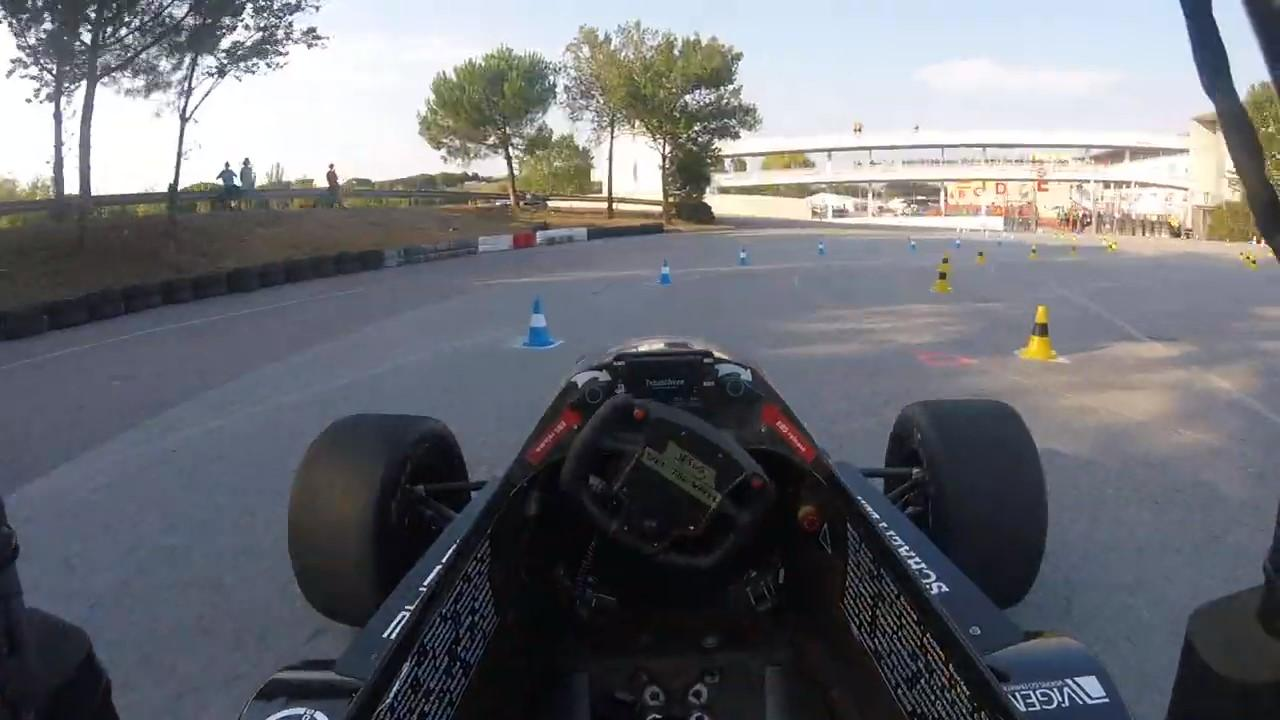blue_cone: (516, 296, 565, 353), (651, 257, 674, 286), (735, 247, 752, 267), (905, 239, 919, 253), (817, 240, 827, 256), (952, 236, 963, 250)
yellow_cone: (1020, 303, 1061, 362), (932, 269, 952, 294), (937, 254, 953, 274), (974, 248, 988, 266), (1028, 244, 1040, 261), (1070, 244, 1079, 258), (1107, 241, 1114, 255), (1113, 240, 1119, 250)
